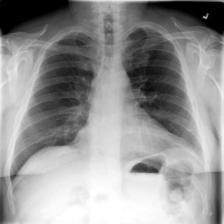normal: (5, 24, 212, 193)
